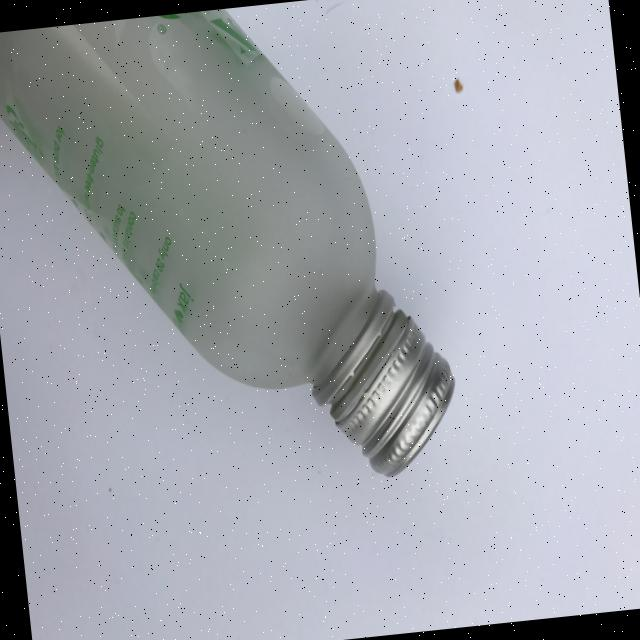glass: (0, 0, 464, 516)
